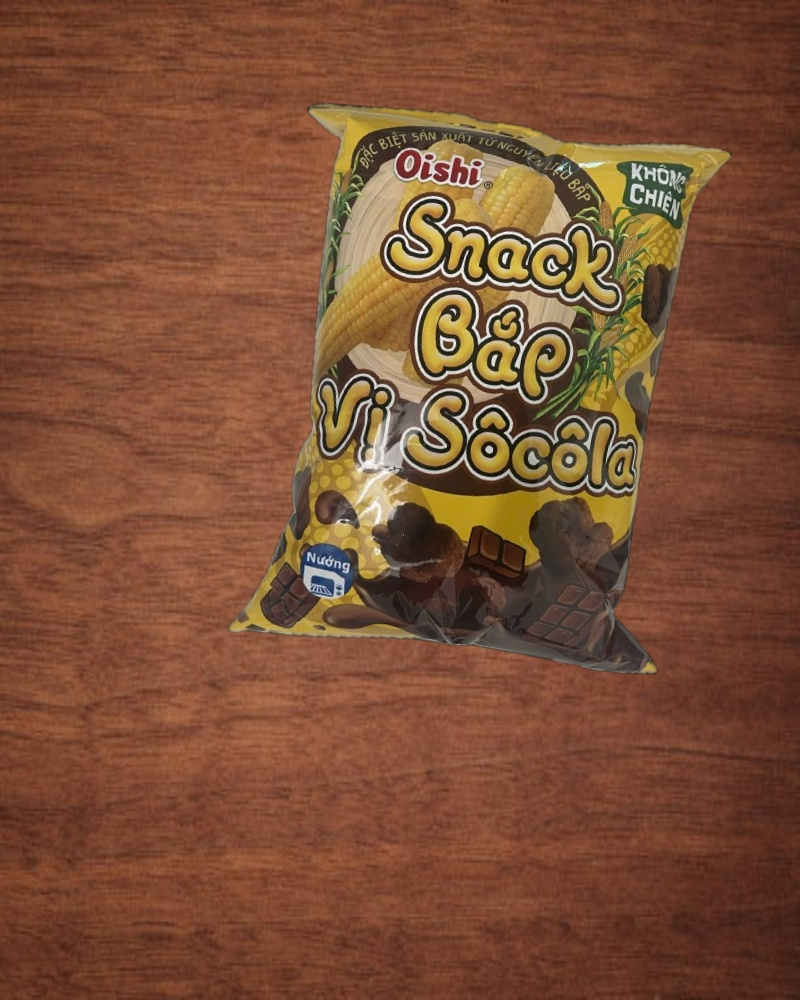Snack socola: (221, 82, 749, 695)
